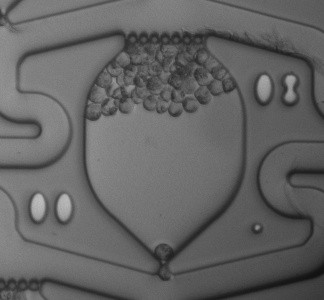AptNum: (248, 66, 308, 114)
Marker: (247, 218, 269, 239)
StNum: (20, 182, 84, 233)
Trap: (135, 257, 192, 300)
